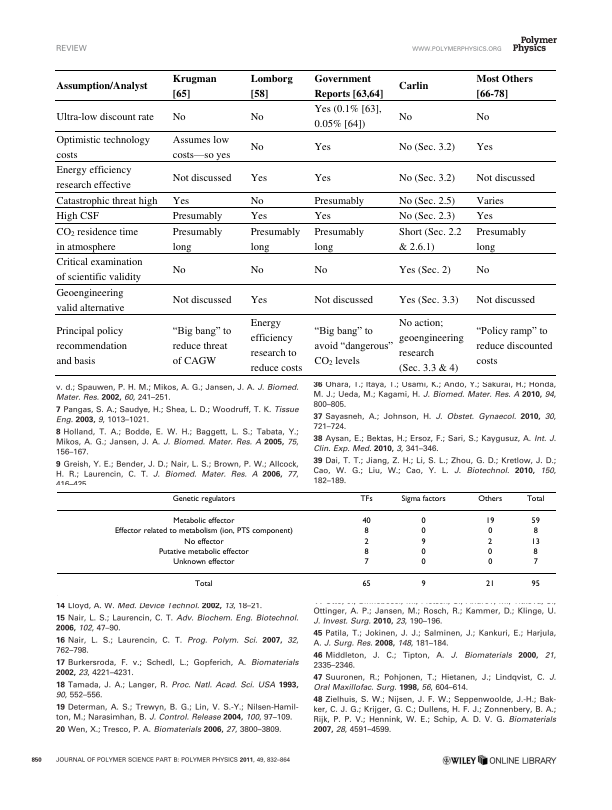borderless: (55, 68, 556, 375), (55, 490, 557, 597)
cell: (398, 316, 465, 375), (314, 322, 394, 368), (475, 322, 554, 367), (55, 324, 128, 367), (250, 316, 303, 375), (172, 322, 232, 367), (55, 133, 151, 161), (55, 255, 144, 284), (55, 225, 139, 253), (55, 163, 132, 192), (314, 71, 384, 100), (314, 102, 383, 131), (55, 286, 125, 314), (398, 225, 463, 253), (113, 527, 293, 537), (475, 71, 534, 100), (172, 133, 231, 162), (475, 225, 527, 253), (172, 225, 223, 253), (250, 225, 301, 253), (314, 225, 365, 253), (55, 194, 158, 207), (172, 71, 218, 100), (55, 79, 148, 93), (55, 110, 155, 123), (250, 71, 294, 100), (157, 547, 249, 557), (398, 293, 460, 307), (475, 293, 536, 307), (172, 293, 232, 307), (314, 293, 374, 307), (398, 140, 456, 154), (398, 209, 456, 223), (475, 171, 536, 184), (172, 171, 232, 184), (398, 171, 456, 184), (398, 194, 456, 207), (172, 209, 223, 223), (398, 263, 452, 276), (314, 194, 365, 207), (171, 494, 236, 504), (55, 209, 100, 223), (172, 517, 235, 526), (172, 558, 235, 567), (400, 494, 446, 504), (398, 79, 429, 93), (183, 537, 224, 547), (475, 194, 505, 207), (475, 140, 494, 154), (475, 209, 494, 223), (477, 494, 503, 504), (314, 140, 332, 154), (250, 209, 268, 223), (314, 209, 332, 223), (250, 293, 268, 307), (250, 171, 268, 184), (314, 171, 332, 184), (172, 194, 190, 207), (250, 140, 265, 154), (525, 494, 545, 504), (172, 110, 187, 123), (250, 110, 265, 123), (398, 110, 413, 123), (475, 110, 490, 123), (250, 194, 265, 207), (172, 263, 187, 276), (250, 263, 265, 276), (475, 263, 490, 276), (194, 580, 213, 590), (314, 263, 328, 276), (359, 494, 373, 504), (530, 537, 540, 547), (361, 580, 371, 590), (485, 580, 495, 590), (530, 580, 540, 590), (361, 517, 371, 526), (485, 517, 495, 526), (530, 517, 540, 526), (363, 527, 369, 537), (420, 527, 426, 537), (487, 527, 493, 537), (532, 527, 538, 537), (363, 537, 369, 547), (420, 537, 426, 547), (487, 537, 493, 547), (363, 547, 369, 557), (420, 547, 426, 557), (487, 547, 493, 557), (532, 547, 538, 557), (420, 580, 426, 590), (420, 517, 426, 526), (363, 558, 369, 567), (420, 558, 426, 567), (487, 558, 493, 567), (532, 558, 538, 567)
